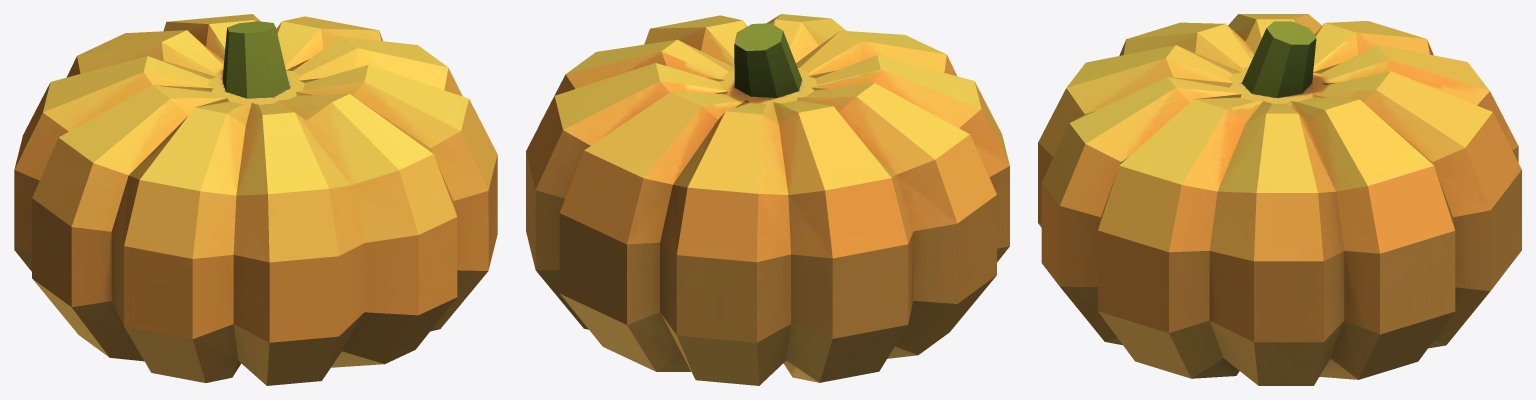
File: fJxUxqZuPt1.glb
The picture shows the model from 3 angles, left to right: view 1: azimuth 30°, elevation 25°; view 2: azimuth 150°, elevation 25°; view 3: azimuth 270°, elevation 25°; orthographic projection.
Visible parts, largest first — view 1: pumpkin; view 2: pumpkin; view 3: pumpkin.
Part boxes in pixels (bbox=[...]): pumpkin: bbox=[14, 14, 497, 385]; pumpkin: bbox=[526, 14, 1009, 385]; pumpkin: bbox=[1038, 14, 1521, 385].
Bounding box in the file's own units: 1.38 × 1 × 1.39.
Materials: 1 (1 with a texture image).
